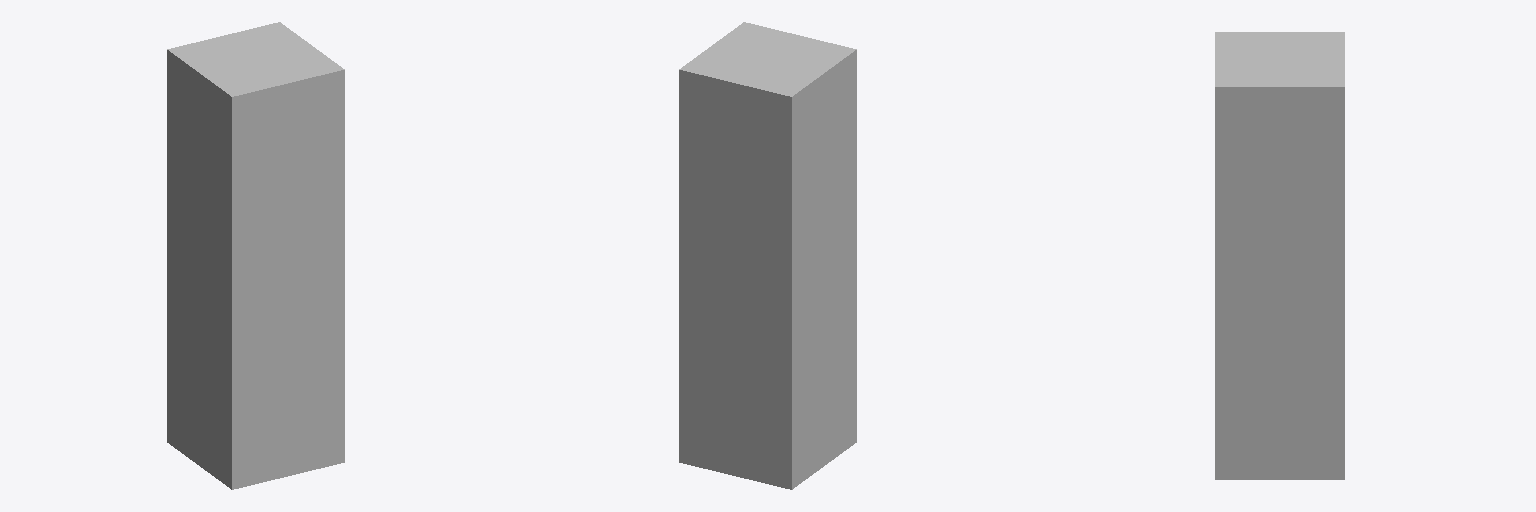
Rendered from spear2.obj.
3 views of the same model, side by side, from view 1: azimuth 30°, elevation 25°; view 2: azimuth 150°, elevation 25°; view 3: azimuth 270°, elevation 25° (orthographic).
Parts seen in each view (by area): view 1: Cube_Cube.001; view 2: Cube_Cube.001; view 3: Cube_Cube.001.
Part boxes in pixels (x1,y1,x2,y2): Cube_Cube.001: (167,22,344,489); Cube_Cube.001: (679,22,856,489); Cube_Cube.001: (1215,32,1344,479).
Bounding box in the file's own units: 0.7115 × 2.37 × 0.7116.